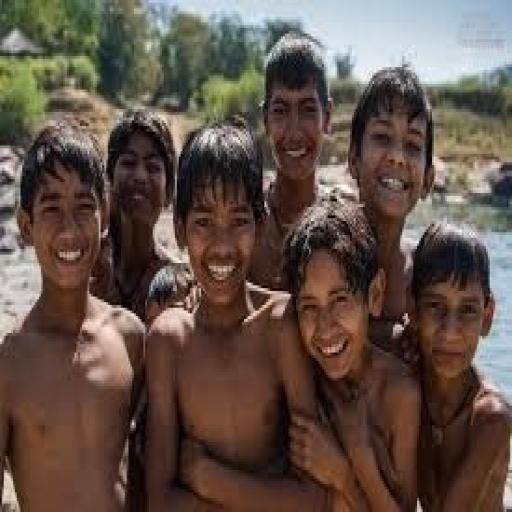laughing: (4, 28, 504, 504)
